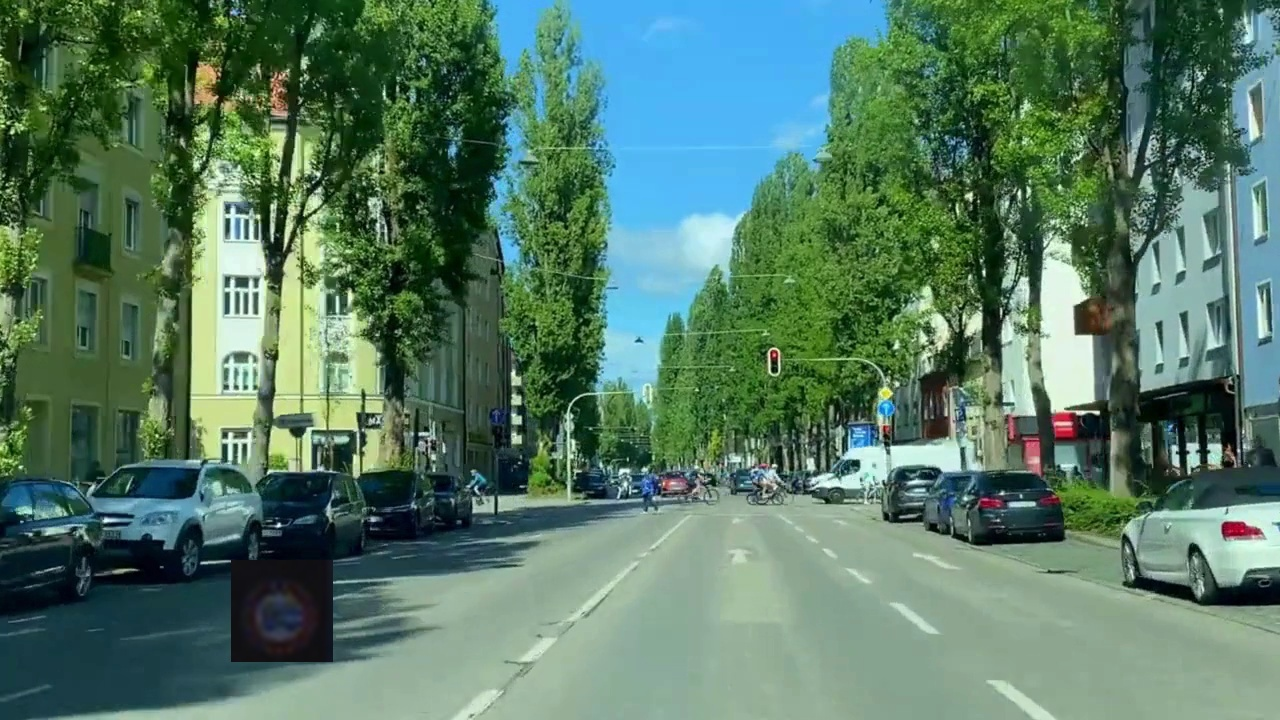Speed 80: (231, 560, 333, 662)
